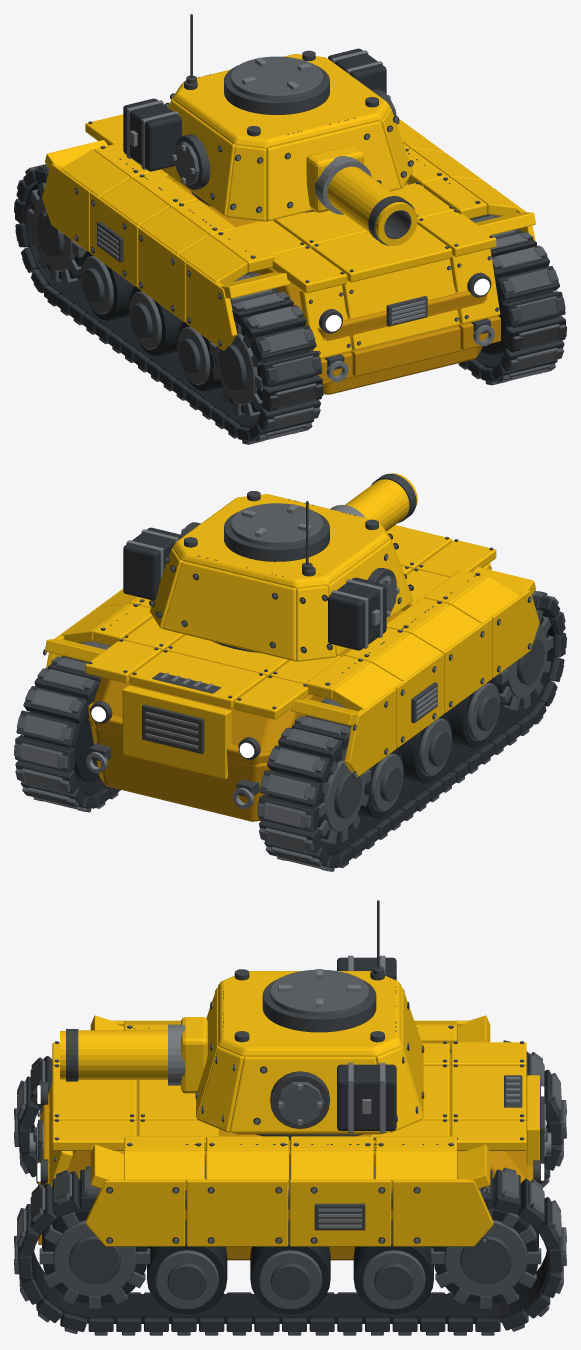
Rendered from tank.glb.
3 renders of one model, top to bottom at view 1: azimuth 30°, elevation 25°; view 2: azimuth 150°, elevation 25°; view 3: azimuth 270°, elevation 25°, orthographic. The views are drawn at different scales.
Visible parts, largest first — view 1: Hull, Turret, TrackLeft, TrackRight, Barrel, Hatch, WheelLeft1, WheelLeft5, WheelLeft3, WheelLeft4, WheelLeft2; view 2: Hull, Turret, TrackLeft, TrackRight, Hatch, WheelLeft5, WheelLeft1, Barrel, WheelLeft3, WheelLeft2, WheelLeft4, WheelRight5; view 3: Hull, Turret, TrackRight, Barrel, WheelRight5, WheelRight1, Hatch, WheelRight3, WheelRight2, WheelRight4, TrackLeft.
Boxes of the visible parts, <box> form: Hull: <box>24,103,557,427</box>; Turret: <box>123,48,413,221</box>; TrackLeft: <box>14,164,323,444</box>; TrackRight: <box>406,182,566,385</box>; Barrel: <box>306,145,417,245</box>; Hatch: <box>224,56,329,114</box>; WheelLeft1: <box>210,322,264,417</box>; WheelLeft5: <box>27,183,86,283</box>; WheelLeft3: <box>129,286,182,356</box>; WheelLeft4: <box>81,251,134,320</box>; WheelLeft2: <box>177,321,222,391</box>; Hull: <box>24,503,556,854</box>; Turret: <box>123,491,413,661</box>; TrackLeft: <box>257,590,566,871</box>; TrackRight: <box>14,641,120,812</box>; Hatch: <box>224,503,329,561</box>; WheelLeft5: <box>315,748,370,844</box>; WheelLeft1: <box>494,609,553,710</box>; Barrel: <box>330,473,417,531</box>; WheelLeft3: <box>398,713,451,783</box>; WheelLeft2: <box>446,678,499,747</box>; WheelLeft4: <box>358,748,403,818</box>; WheelRight5: <box>71,697,99,781</box>; Hull: <box>29,1015,551,1323</box>; Turret: <box>195,955,424,1139</box>; TrackRight: <box>14,1166,566,1335</box>; Barrel: <box>60,1017,207,1093</box>; WheelRight5: <box>430,1208,541,1308</box>; WheelRight1: <box>39,1209,150,1308</box>; Hatch: <box>262,969,376,1032</box>; WheelRight3: <box>250,1220,330,1314</box>; WheelRight2: <box>147,1220,227,1314</box>; WheelRight4: <box>353,1220,433,1314</box>; TrackLeft: <box>14,1040,566,1187</box>.
Bounding box in the file's own units: 1 × 0.9129 × 1.4.
